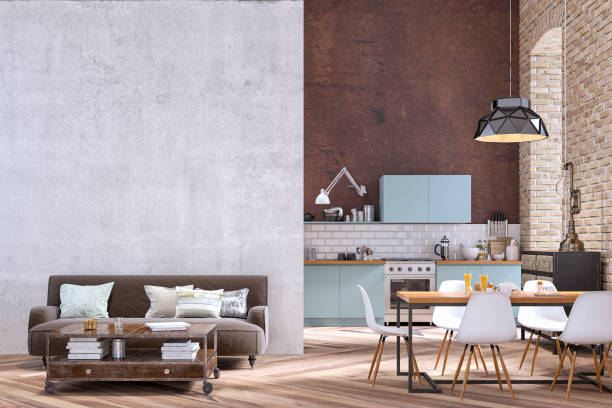dining table set: (353, 279, 612, 403)
sofa: (26, 271, 270, 370)
table: (41, 318, 223, 394)
table lamp: (312, 156, 376, 208)
